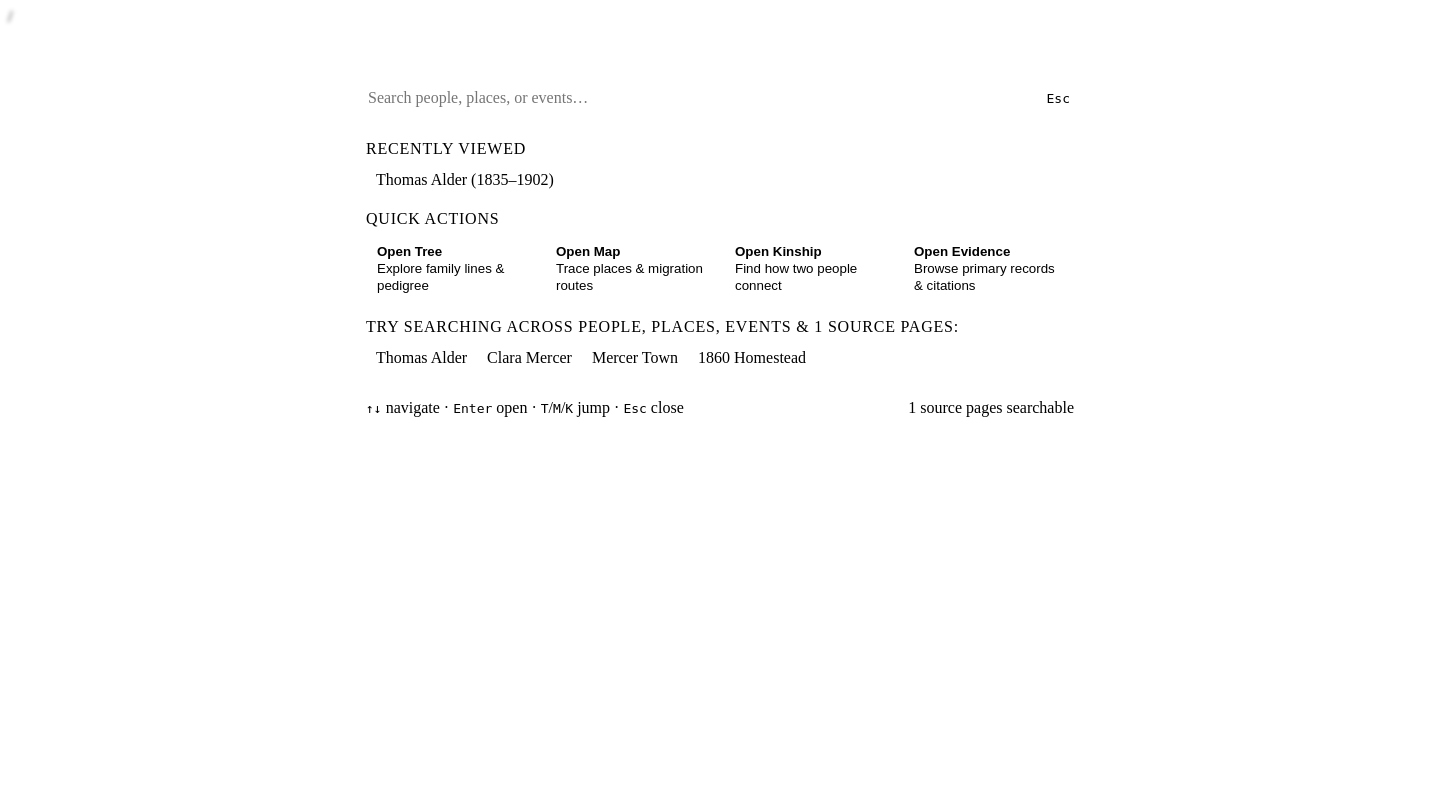
Test: GlobalSearchModal Archival Command Bar (#71) › opens on Cmd/Ctrl+K and / and shows Recently viewed, Quick actions, and suggestion chips when empty
This screenshot has width=1440, height=810.
Expected: the dialog shows "Recently viewed", [366,140,526,157]
Expected: the dialog shows "Quick actions", [366,210,500,227]
Click the button "Open Tree Explore family lines & pedigree" at [452, 269], box [366,236,537,302]
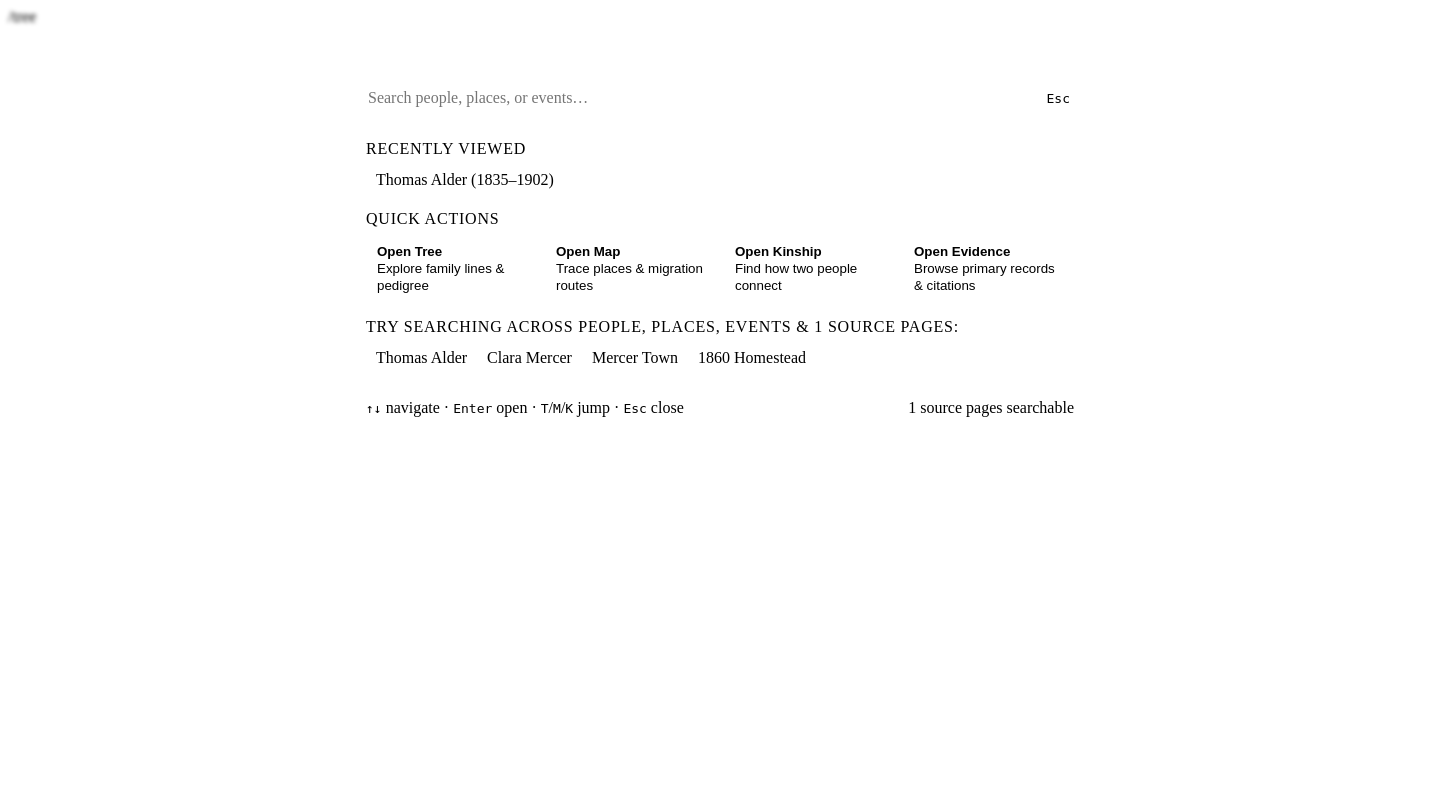
Now the text with test id "current-location" reads "/tree", box [8,8,36,25]
